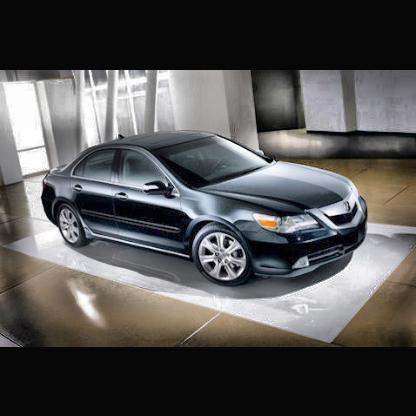Acura RL Sedan 2012: (40, 129, 371, 290)
